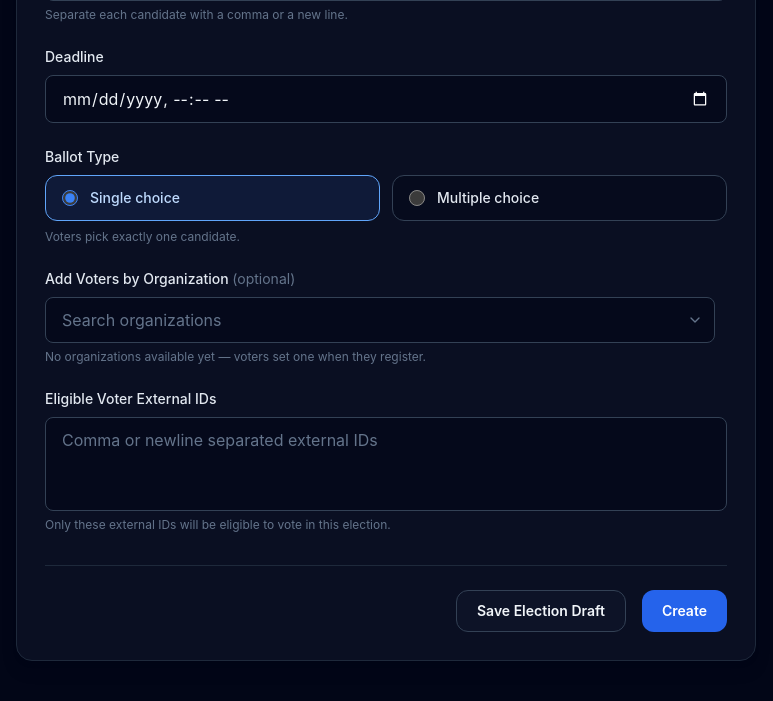
Test: CreateElection organization selector › a failed group lookup reports the error and leaves the voter list alone
This screenshot has width=773, height=701.
(page scrolled)
Type "TYPED-1" into the text box with placeholder "Comma or newline separated external IDs" at (386, 464), box [45,417,727,511]
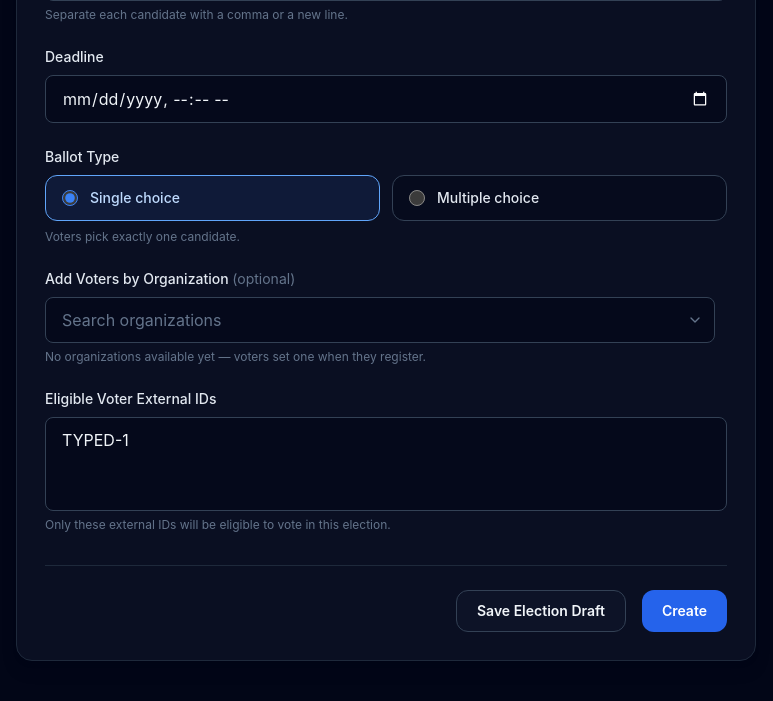
Type "Engineering Club" into the dropdown labelled "Add Voters by Organization (optional)" at (380, 320), box [45,297,715,343]
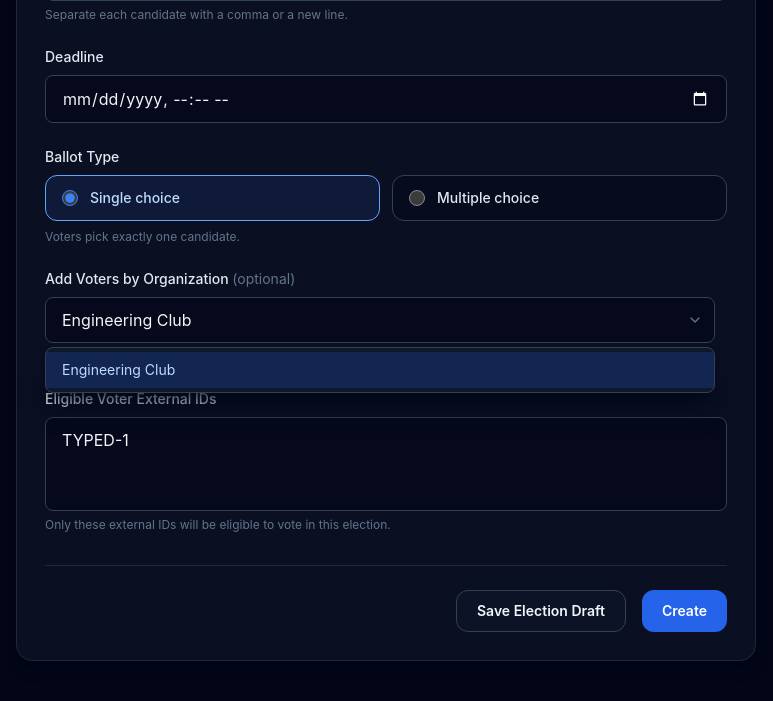
Click the option "Engineering Club" at (119, 370), box [46,352,714,388]
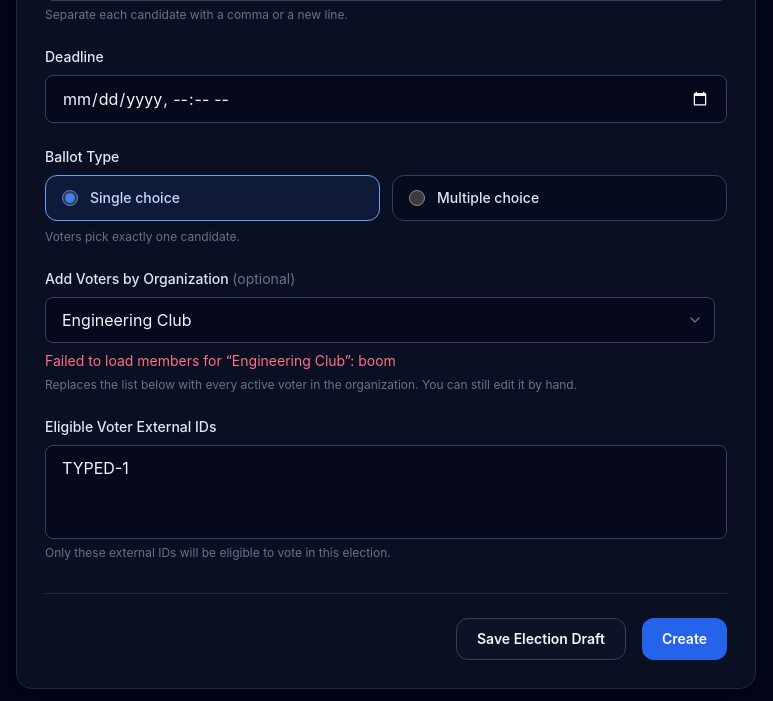
Result: the message shows "Failed to load members" at [45,352,396,369]
